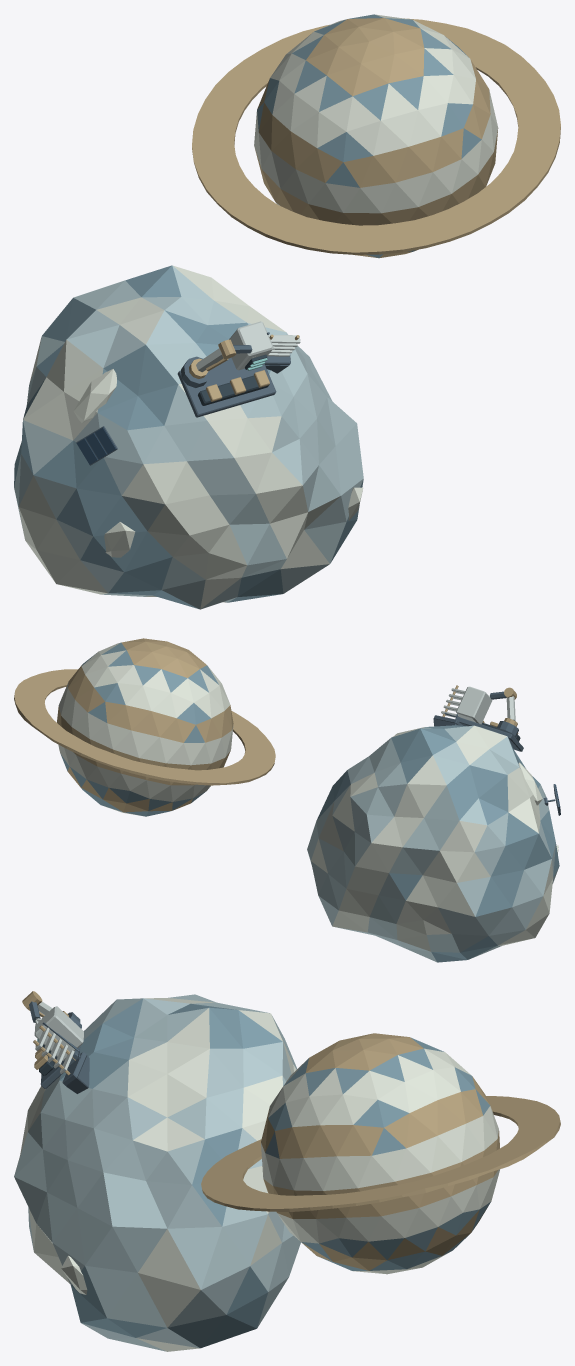
The model's file is outer.glb.
3 renders of one model, top to bottom at view 1: azimuth 30°, elevation 25°; view 2: azimuth 150°, elevation 25°; view 3: azimuth 270°, elevation 25°, orthographic. The views are drawn at different scales.
Parts seen in each view (by area): view 1: S9_outer • modeled surfaces; view 2: S9_outer • modeled surfaces; view 3: S9_outer • modeled surfaces.
Boxes of the visible parts, x1=… form: S9_outer • modeled surfaces: x1=14, y1=14, x2=560, y2=609; S9_outer • modeled surfaces: x1=14, y1=638, x2=560, y2=962; S9_outer • modeled surfaces: x1=14, y1=991, x2=560, y2=1351.
Bounding box in the file's own units: 2.48 × 1.63 × 1.95.
